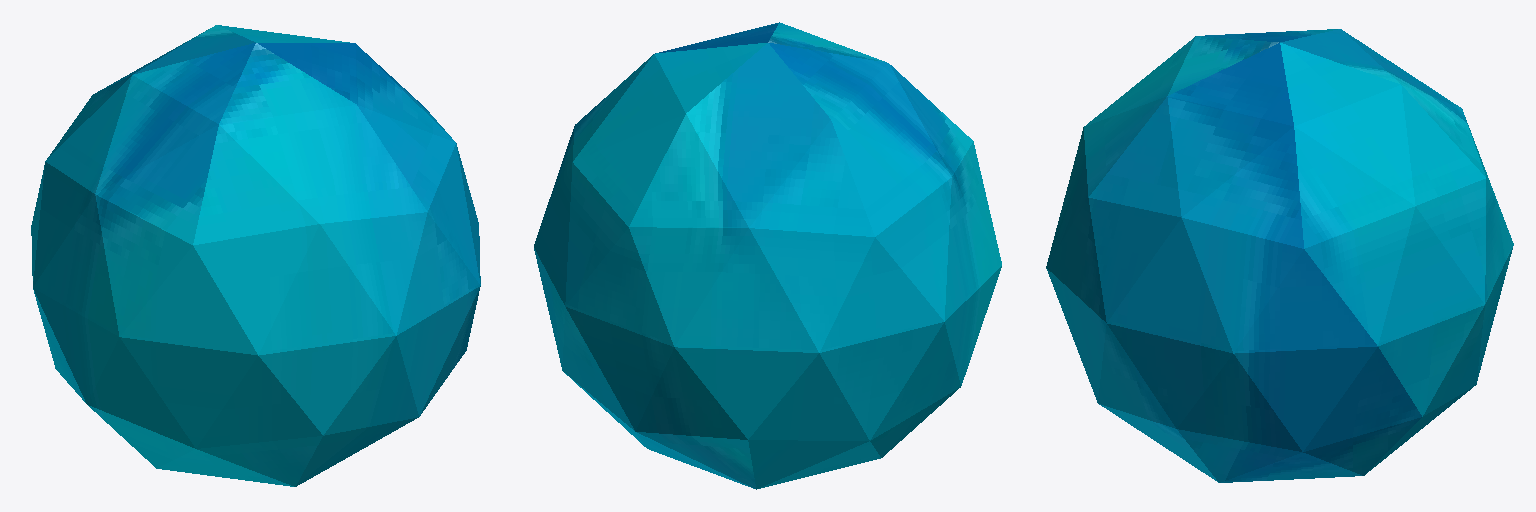
The picture shows the model from 3 angles: view 1: azimuth 30°, elevation 25°; view 2: azimuth 150°, elevation 25°; view 3: azimuth 270°, elevation 25°; orthographic projection.
Visible parts, largest first — view 1: Icosphere; view 2: Icosphere; view 3: Icosphere.
Boxes of the visible parts, <box> form: Icosphere: <box>31,25,480,486</box>; Icosphere: <box>534,22,1001,489</box>; Icosphere: <box>1046,29,1513,482</box>.
Size of the model in its own units: 214 by 219 by 217.
1 materials, 1 textured.